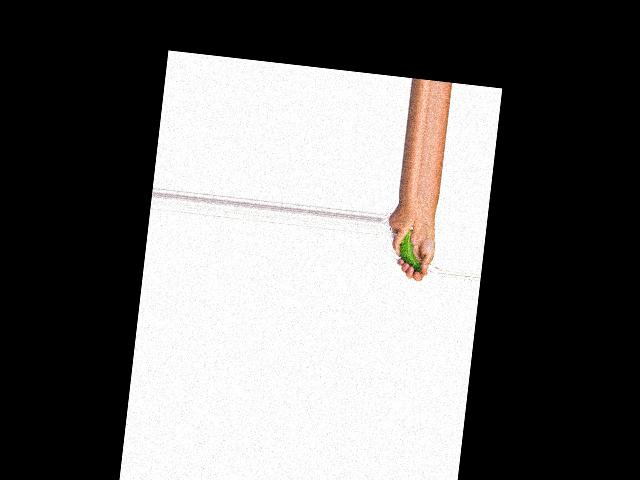cucumber: (396, 227, 426, 273)
